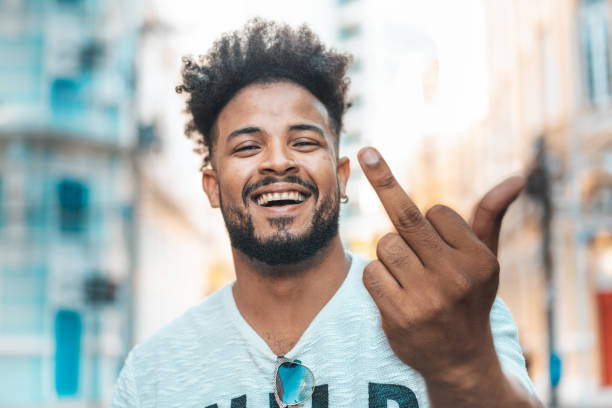insulting_gesture: (358, 140, 524, 362)
